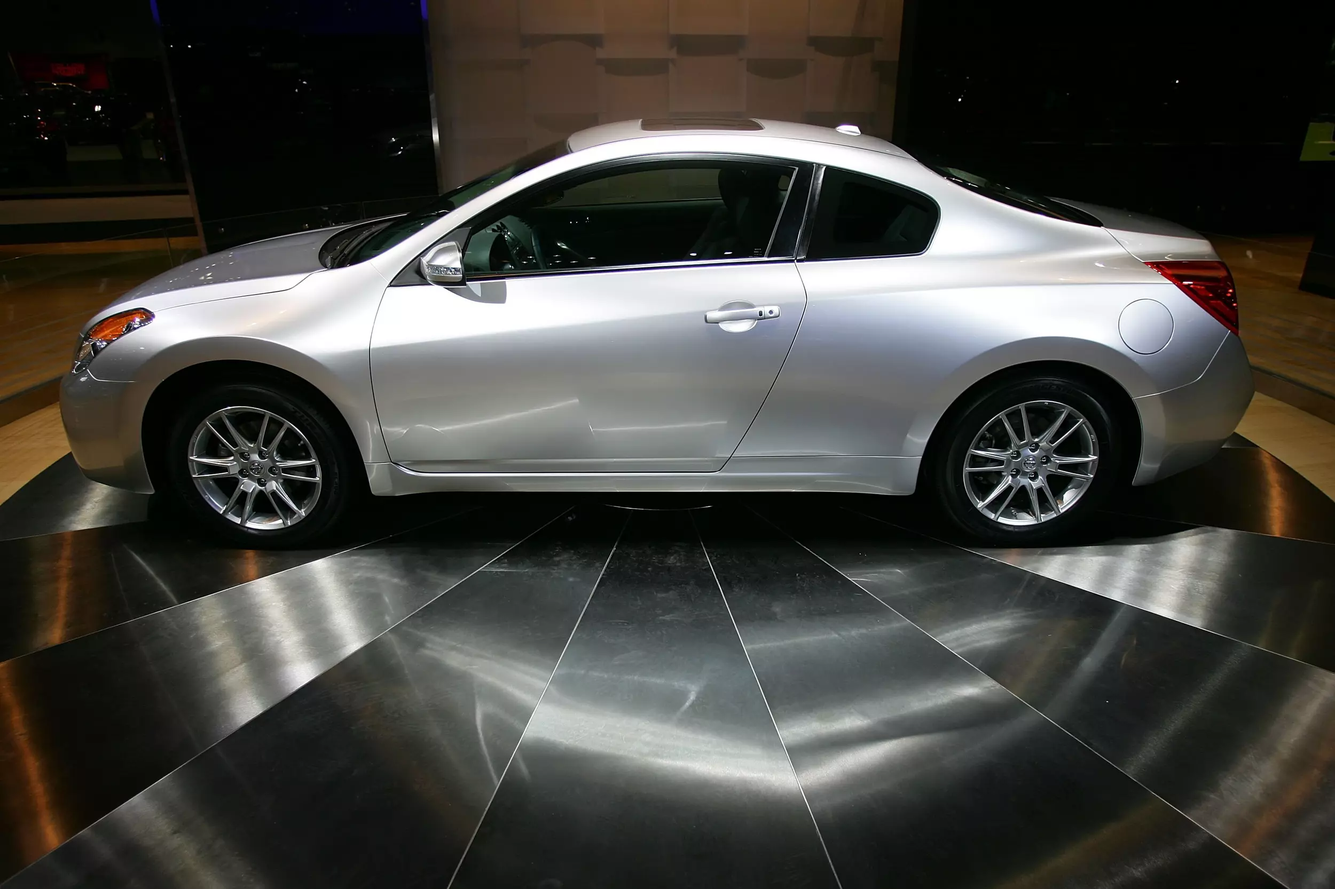other: (79, 107, 1265, 538)
